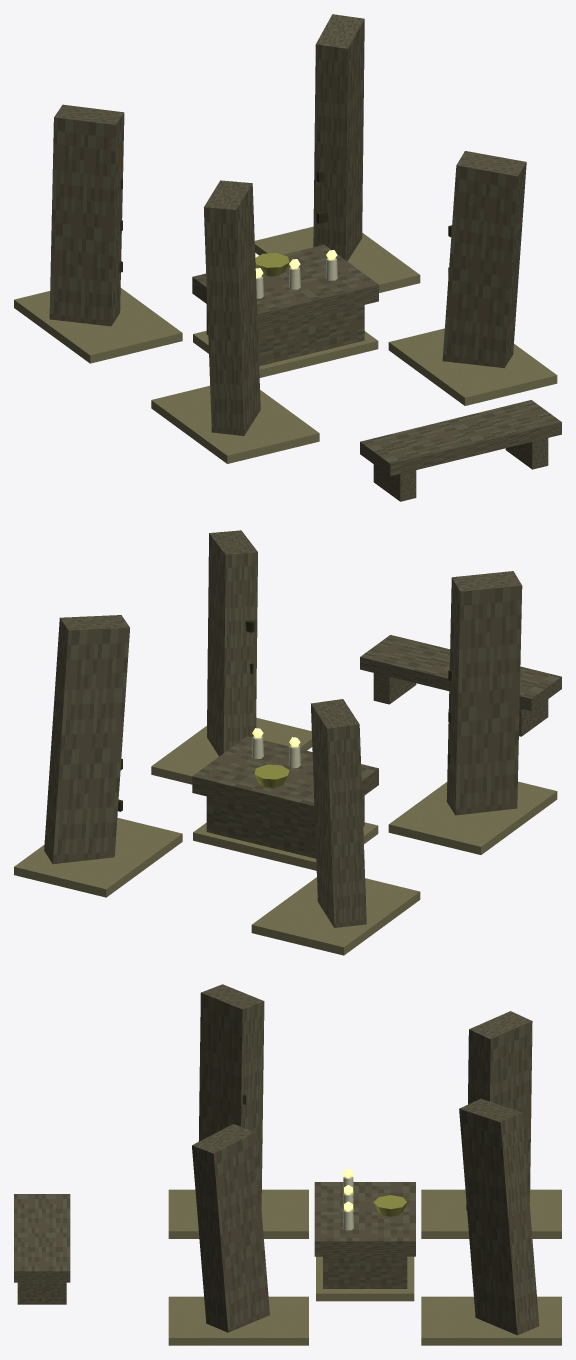
File: village_shrine3.glb
3 renders of one model, top to bottom at view 1: azimuth 30°, elevation 25°; view 2: azimuth 150°, elevation 25°; view 3: azimuth 270°, elevation 25°, orthographic. The views are drawn at different scales.
Parts seen in each view (by area): view 1: sh3_1, sh3_0, sh3_3, sh3_4; view 2: sh3_1, sh3_0, sh3_4; view 3: sh3_1, sh3_0, sh3_4, sh3_3.
Boxes of the visible parts, x1,y1,x2,y2 form: sh3_1: (49,14,561,501); sh3_0: (14,226,557,463); sh3_3: (256,258,337,298); sh3_4: (255,253,289,276); sh3_1: (44,530,561,927); sh3_0: (14,717,557,955); sh3_4: (254,764,289,787); sh3_1: (14,984,539,1335); sh3_0: (168,1189,561,1345); sh3_4: (374,1195,407,1216); sh3_3: (342,1176,353,1230).
Size of the model in its own units: 2.5 by 1.73 by 3.9.
3 materials, 2 textured.
